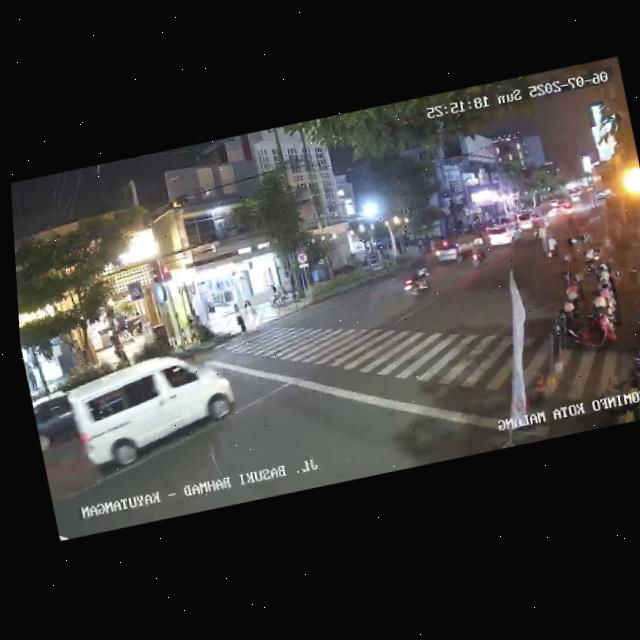car: (67, 344, 246, 481), (31, 385, 85, 460), (484, 220, 525, 251), (429, 236, 466, 268)
motorcycle: (399, 261, 436, 302), (466, 236, 490, 271), (539, 227, 561, 264)
person: (232, 302, 249, 336), (245, 297, 261, 330), (24, 361, 38, 392)
